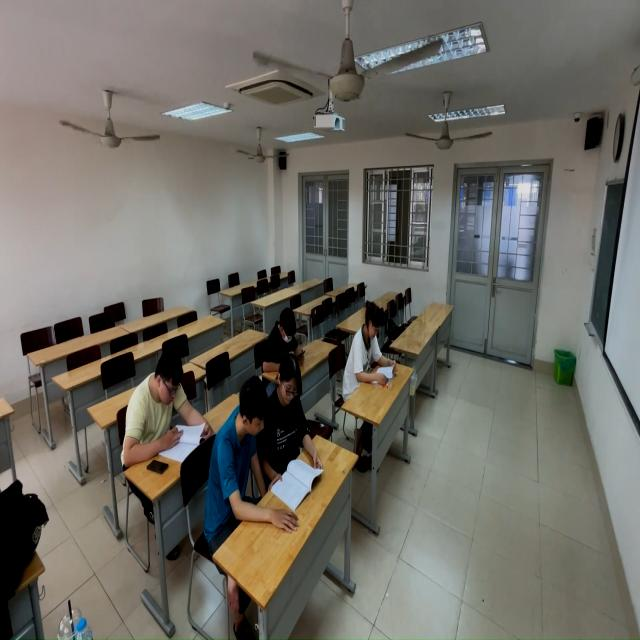read: (203, 365, 273, 542), (122, 348, 218, 471), (264, 349, 322, 504), (342, 301, 403, 404), (262, 302, 313, 371)
